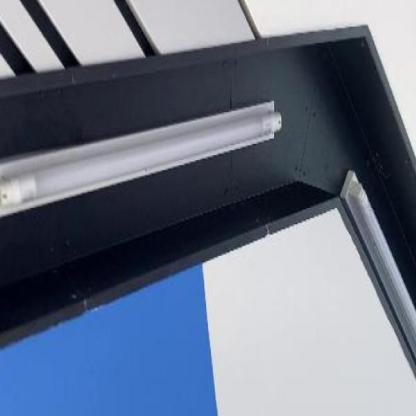light_off: (0, 66, 289, 224), (324, 148, 416, 414)
